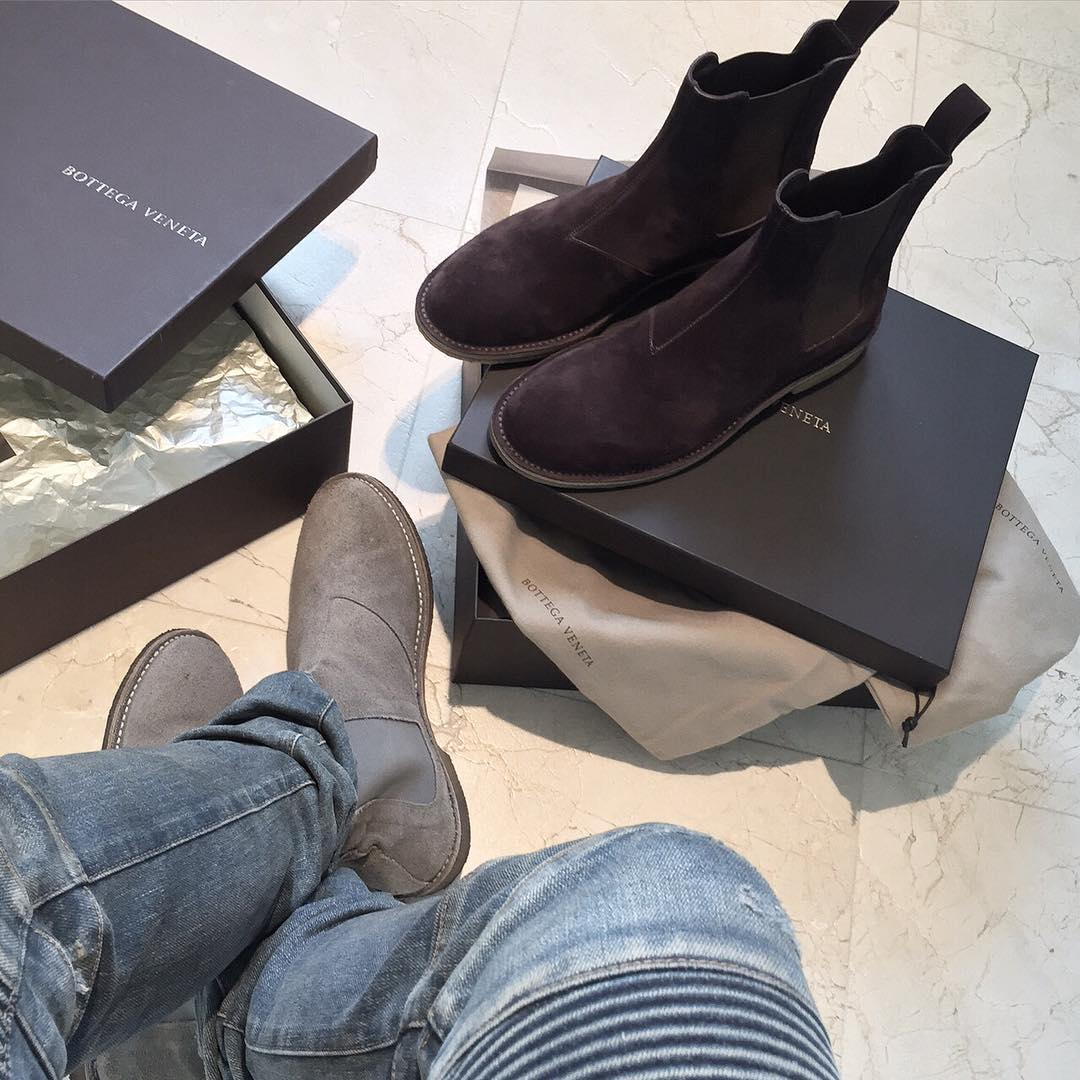sneaker: (258, 440, 502, 942), (78, 604, 268, 817)
